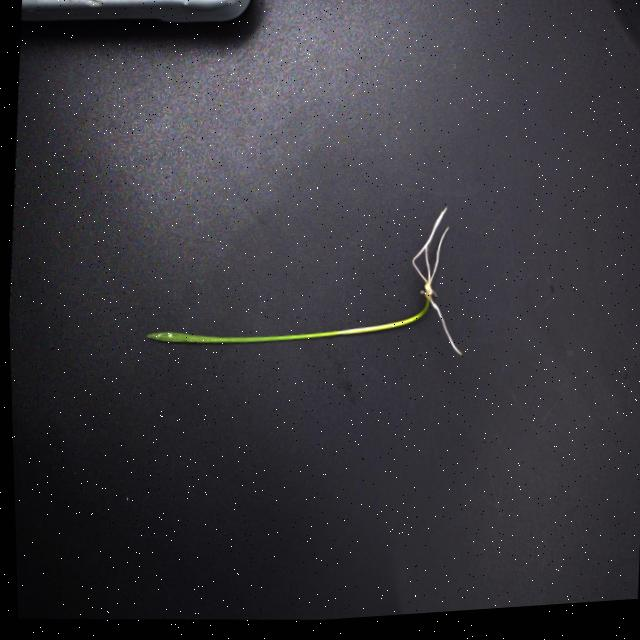leaf: (147, 329, 294, 350)
root: (414, 201, 454, 284)
steb: (293, 306, 426, 346)
